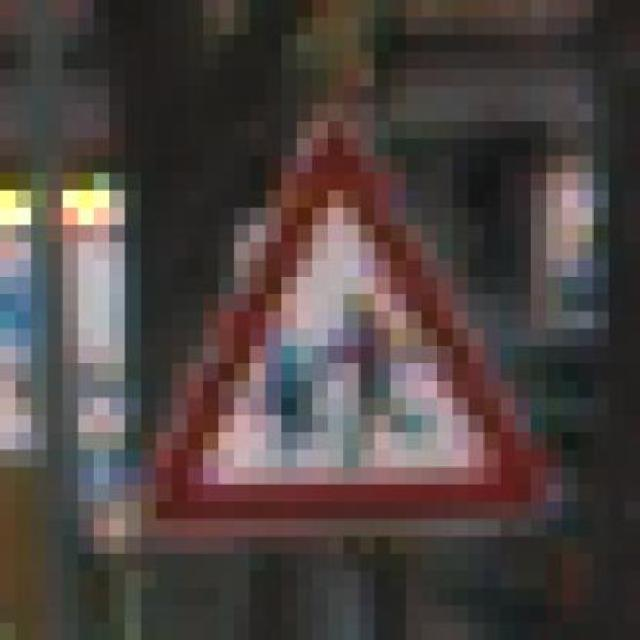Beware of children: (125, 86, 578, 537)
